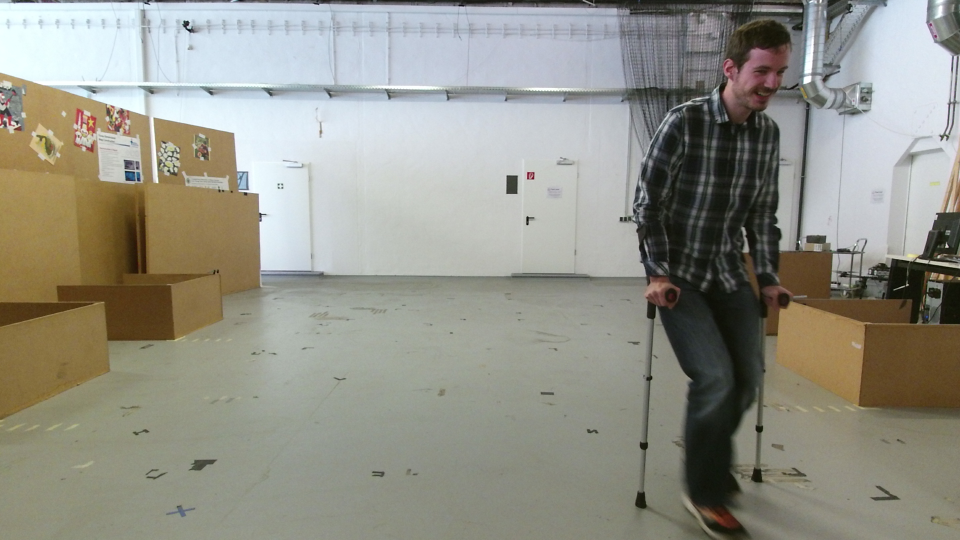crutches: (610, 13, 814, 540)
